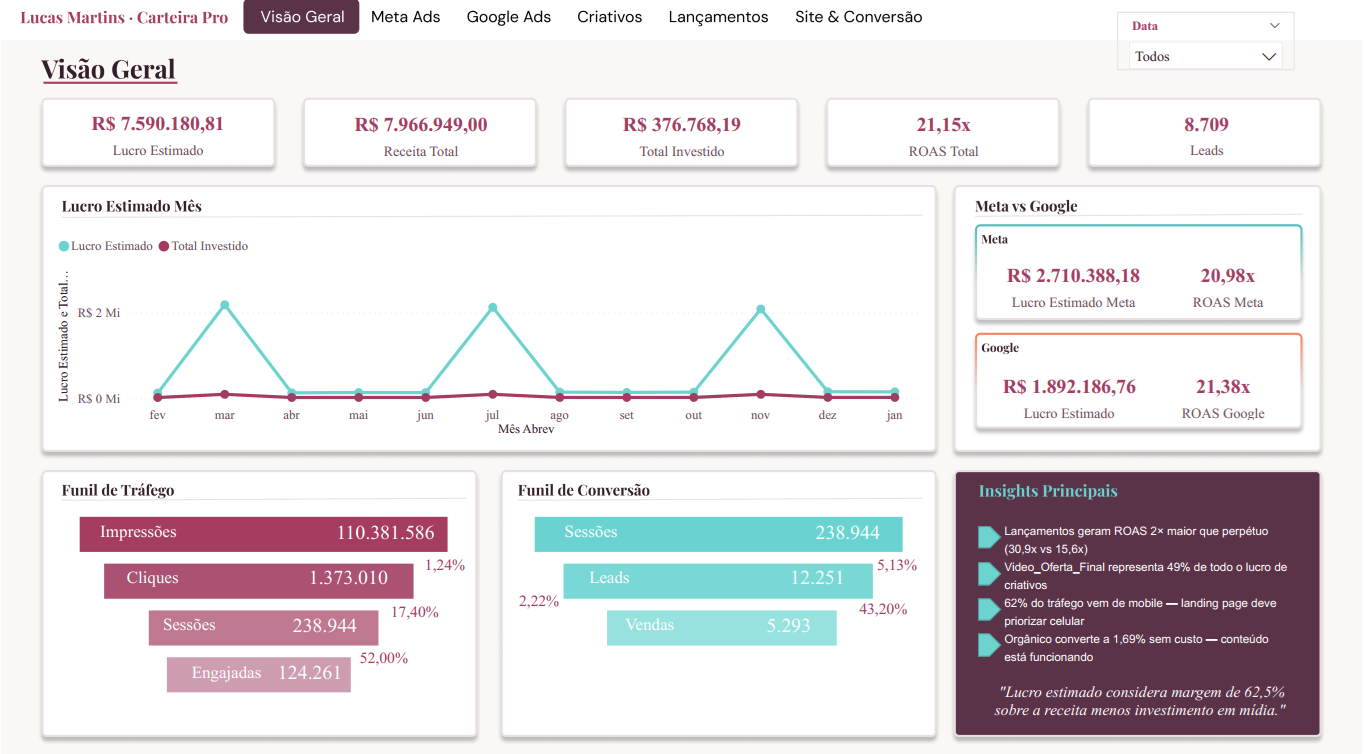

The dashboard page shown, as its layout file describes it:
{"tool":"powerbi","page":{"name":"Geral","canvas":[1280,720],"ordinal":0},"visuals":[{"type":"card","fields":{"Values":["Medidas.Total Investido"]},"box":[548.7,104.1,182.9,63.3],"z":0},{"type":"card","fields":{"Values":["Medidas.Receita Total"]},"box":[284.2,104.1,222.3,63.3],"z":1000},{"type":"card","fields":{"Values":["Medidas.ROAS Total"]},"box":[779.4,104.1,215.3,63.3],"z":2000},{"type":"card","fields":{"Values":["Medidas.Leads Meta"]},"box":[1029.9,104.1,209.6,61.9],"z":3000},{"type":"card","fields":{"Values":["Medidas.Lucro Estimado"]},"box":[35.2,102.7,225.1,63.3],"z":4000},{"type":"slicer","fields":{"Values":["Calendário.Date.Variation.Hierarquia de datas.Ano","Calendário.Date.Variation.Hierarquia de datas.Mês"]},"box":[1050.3,20.9,166.9,55.2],"z":5000},{"type":"lineChart","fields":{"Y":["Medidas.Lucro Estimado","Medidas.Total Investido"],"Category":["Calendário.Mês Abrev"]},"box":[47.8,222.3,823,202.6],"z":6000},{"type":"card","fields":{"Values":["Medidas.ROAS Google"]},"box":[1084.2,354.7,132.2,55.6],"z":7000},{"type":"card","fields":{"Values":["Medidas.Lucro Estimado Google"]},"box":[926,354.7,157.8,55.6],"z":8000},{"type":"card","fields":{"Values":["Medidas.Lucro Estimado Meta"]},"box":[930,250.2,157.8,55.6],"z":9000},{"type":"card","fields":{"Values":["Medidas.ROAS Meta"]},"box":[1100,250.2,108.9,55.6],"z":10000},{"type":"textbox","box":[930.1,647.9,290.8,49.1],"z":11000},{"type":"actionButton","box":[338.7,4.9,87.1,40.5],"z":12000},{"type":"actionButton","box":[425.8,4.9,99.4,40.5],"z":13000},{"type":"actionButton","box":[525.2,4.9,99.4,40.5],"z":14000},{"type":"actionButton","box":[624.5,6.1,106.7,40.5],"z":15000},{"type":"actionButton","box":[742.3,6.1,128.8,40.5],"z":16000},{"type":"card","fields":{"Values":["Medidas.FT 1 Impressoes"]},"box":[305.5,496,111.3,30.9],"z":17000},{"type":"textbox","box":[112.9,539.9,85.9,30.7],"z":18000},{"type":"textbox","box":[147.2,584.1,85.9,30.7],"z":19000},{"type":"textbox","box":[174.2,629.5,85.9,30.7],"z":20000},{"type":"textbox","box":[525.2,495.7,85.9,30.7],"z":21000},{"type":"textbox","box":[548.5,539.9,85.9,30.7],"z":22000},{"type":"textbox","box":[581.6,584.1,85.9,30.7],"z":23000},{"type":"card","fields":{"Values":["Medidas.FT 2 Cliques"]},"box":[270.9,539.3,111.3,30.9],"z":24000},{"type":"card","fields":{"Values":["Medidas.FT 3 Sessoes"]},"box":[259.8,583.8,89.1,30.9],"z":25000},{"type":"card","fields":{"Values":["Medidas.FT 4 Sessoes Engajadas"]},"box":[251.9,628.4,76.6,31.2],"z":26000},{"type":"card","fields":{"Values":["Medidas.FC 1 Sessoes"]},"box":[758.3,496,76.7,30.9],"z":27000},{"type":"card","fields":{"Values":["Medidas.FC 2 Leads"]},"box":[729.8,539.3,76.7,30.9],"z":28000},{"type":"card","fields":{"Values":["Medidas.FC 3 Vendas"]},"box":[702.6,583.8,76.7,30.9],"z":29000},{"type":"card","fields":{"Values":["Medidas.FC Taxa Geral Sessao para Venda"]},"box":[472.6,554.4,66.2,44.1],"z":30000},{"type":"card","fields":{"Values":["Medidas.FC Taxa Sessao para Lead"]},"box":[810.2,520.7,66.2,44.1],"z":31000},{"type":"card","fields":{"Values":["Medidas.FC Taxa Lead para Venda"]},"box":[797.2,562.2,66.2,44.1],"z":32000},{"type":"card","fields":{"Values":["Medidas.FT Taxa Imp para Clique"]},"box":[384.3,520.7,66.2,44.1],"z":33000},{"type":"card","fields":{"Values":["Medidas.FT Taxa Clique para Sessao"]},"box":[355.8,564.8,66.2,44.1],"z":34000},{"type":"card","fields":{"Values":["Medidas.FT Taxa Sessao para Engajada"]},"box":[327.2,609,66.2,44.1],"z":35000},{"type":"textbox","box":[88.3,496,85.7,31.2],"z":36000},{"type":"textbox","box":[938.8,494.7,281.8,149.3],"z":37000},{"type":"shape","box":[918.9,504.7,22.1,21.6],"z":38000},{"type":"shape","box":[918.9,539.5,22.1,21.6],"z":39000},{"type":"shape","box":[918.9,572.6,22.1,21.6],"z":40000},{"type":"shape","box":[918.9,606.3,22.1,21.6],"z":41000}]}

Visuals, with their boxes in screenshot pixels (x1, y1, x2, y2), scaled from the page's 1280x720 canvas onto the 1364x754 screenshot:
card - Medidas.Total Investido: bbox(585, 109, 780, 175)
card - Medidas.Receita Total: bbox(303, 109, 540, 175)
card - Medidas.ROAS Total: bbox(831, 109, 1060, 175)
card - Medidas.Leads Meta: bbox(1097, 109, 1321, 174)
card - Medidas.Lucro Estimado: bbox(38, 108, 277, 174)
slicer - Calendário.Date.Variation.Hierarquia de datas.Ano x Calendário.Date.Variation.Hierarquia de datas.Mês: bbox(1119, 22, 1297, 80)
lineChart - Medidas.Lucro Estimado x Medidas.Total Investido: bbox(51, 233, 928, 445)
card - Medidas.ROAS Google: bbox(1155, 371, 1296, 430)
card - Medidas.Lucro Estimado Google: bbox(987, 371, 1155, 430)
card - Medidas.Lucro Estimado Meta: bbox(991, 262, 1159, 320)
card - Medidas.ROAS Meta: bbox(1172, 262, 1288, 320)
textbox: bbox(991, 678, 1301, 730)
actionButton: bbox(361, 5, 454, 48)
actionButton: bbox(454, 5, 560, 48)
actionButton: bbox(560, 5, 666, 48)
actionButton: bbox(665, 6, 779, 49)
actionButton: bbox(791, 6, 928, 49)
card - Medidas.FT 1 Impressoes: bbox(326, 519, 444, 552)
textbox: bbox(120, 565, 212, 598)
textbox: bbox(157, 612, 248, 644)
textbox: bbox(186, 659, 277, 691)
textbox: bbox(560, 519, 651, 551)
textbox: bbox(584, 565, 676, 598)
textbox: bbox(620, 612, 711, 644)
card - Medidas.FT 2 Cliques: bbox(289, 565, 407, 597)
card - Medidas.FT 3 Sessoes: bbox(277, 611, 372, 644)
card - Medidas.FT 4 Sessoes Engajadas: bbox(268, 658, 350, 691)
card - Medidas.FC 1 Sessoes: bbox(808, 519, 890, 552)
card - Medidas.FC 2 Leads: bbox(778, 565, 859, 597)
card - Medidas.FC 3 Vendas: bbox(749, 611, 830, 644)
card - Medidas.FC Taxa Geral Sessao para Venda: bbox(504, 581, 574, 627)
card - Medidas.FC Taxa Sessao para Lead: bbox(863, 545, 934, 591)
card - Medidas.FC Taxa Lead para Venda: bbox(850, 589, 920, 635)
card - Medidas.FT Taxa Imp para Clique: bbox(410, 545, 480, 591)
card - Medidas.FT Taxa Clique para Sessao: bbox(379, 591, 450, 638)
card - Medidas.FT Taxa Sessao para Engajada: bbox(349, 638, 419, 684)
textbox: bbox(94, 519, 185, 552)
textbox: bbox(1000, 518, 1301, 674)
shape: bbox(979, 529, 1003, 551)
shape: bbox(979, 565, 1003, 588)
shape: bbox(979, 600, 1003, 622)
shape: bbox(979, 635, 1003, 658)
